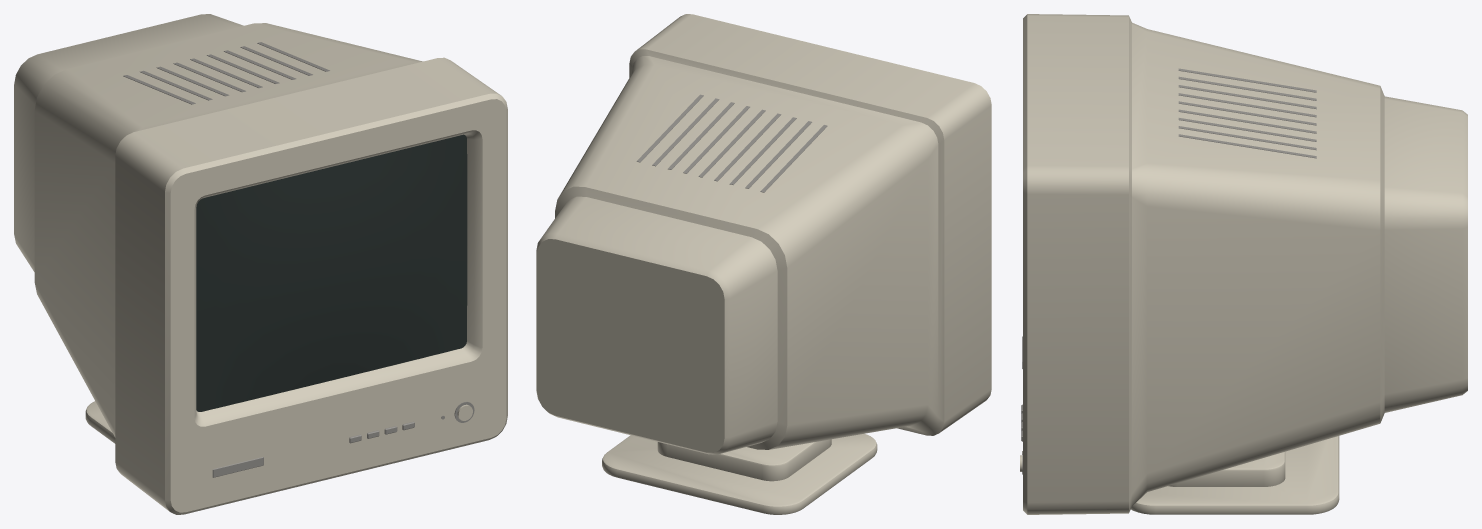
The model's file is SM_CRTMonitor.fbx.
3 views of the same model, side by side, from view 1: azimuth 30°, elevation 25°; view 2: azimuth 150°, elevation 25°; view 3: azimuth 270°, elevation 25° (orthographic). The views are drawn at different scales.
Visible parts, largest first — view 1: SM_CRTMonitor; view 2: SM_CRTMonitor; view 3: SM_CRTMonitor.
Boxes of the visible parts, x1,y1,x2,y2 form: SM_CRTMonitor: (14,14,507,514); SM_CRTMonitor: (536,14,991,514); SM_CRTMonitor: (1020,14,1467,514).
Bounding box in the file's own units: 36.8 × 38.1 × 41.47.
